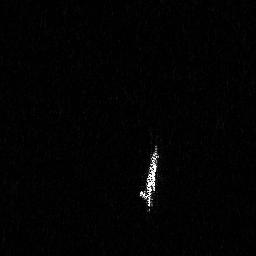ship: (137, 144, 161, 215)
